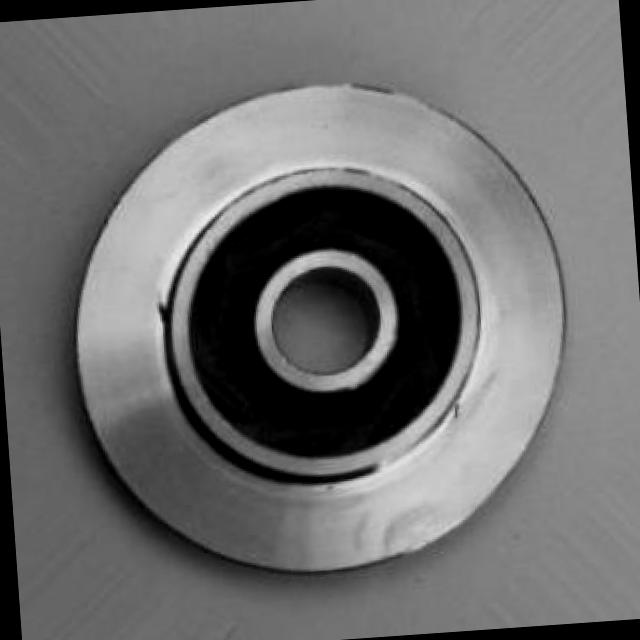Defect: (146, 288, 176, 323)
